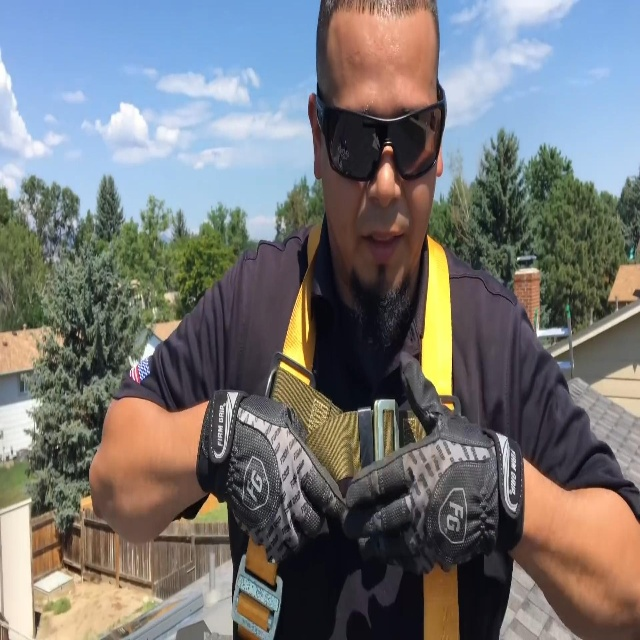Arnes_seguridad: (220, 190, 472, 640)
